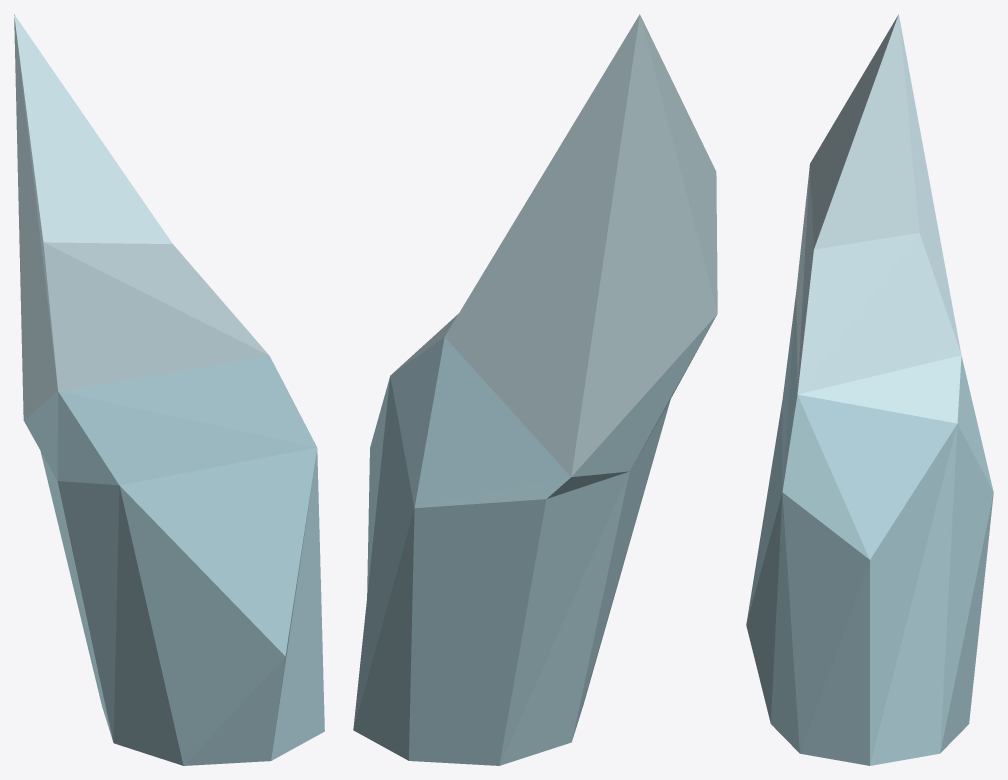
The model's file is sharp_rock_6.fbx.
3 renders of one model, left to right at view 1: azimuth 30°, elevation 25°; view 2: azimuth 150°, elevation 25°; view 3: azimuth 270°, elevation 25°, orthographic. The views are drawn at different scales.
Visible parts, largest first — view 1: sharp_rock_6; view 2: sharp_rock_6; view 3: sharp_rock_6.
Part boxes in pixels (left/top/right/bottom): sharp_rock_6: left=14, top=14, right=324, bottom=765; sharp_rock_6: left=353, top=14, right=717, bottom=765; sharp_rock_6: left=746, top=14, right=993, bottom=765.
Size of the model in its own units: 245 by 566 by 200.
